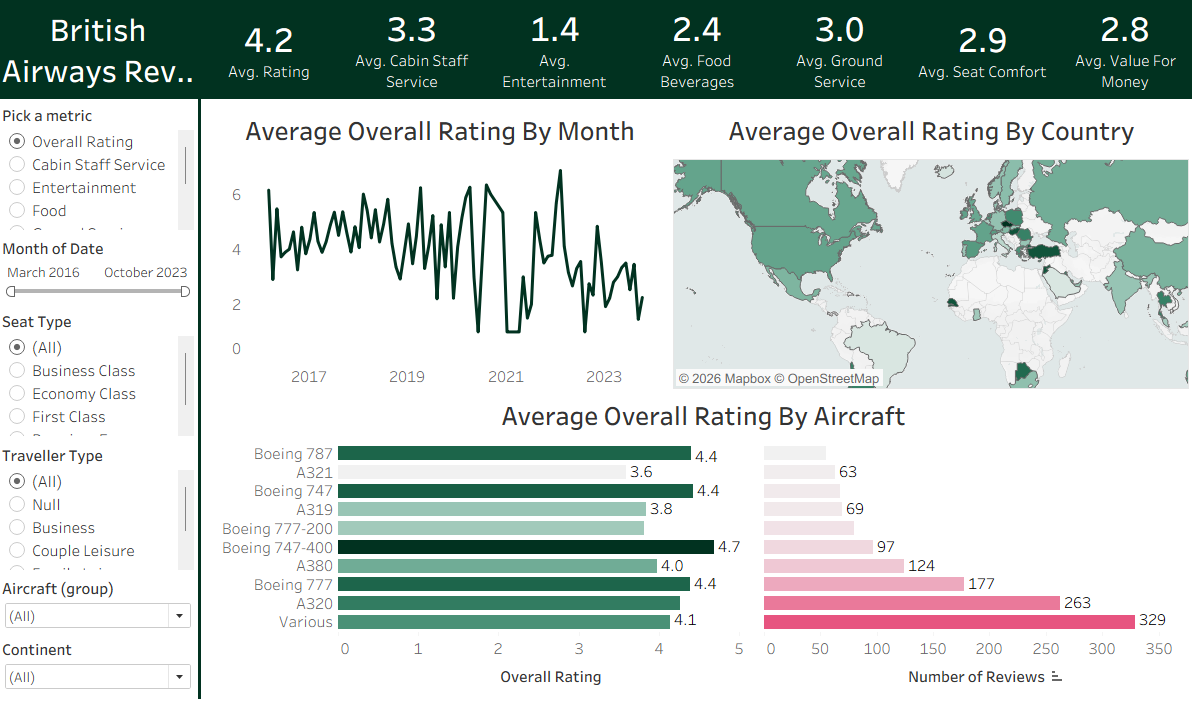

What the dashboard file says about the page in this screenshot:
{"tool":"tableau","page":{"name":"Dashboard 1","canvas":[1200,700],"ordinal":0},"visuals":[{"type":"text","box":[0,0,200,100]},{"type":"worksheet","title":"summary","mark":"Automatic","box":[200,0,999,100]},{"type":"blank","box":[200,100,3,600]},{"type":"parameter","param":"[Parameters].[Parameter 1]","box":[0,102,200,133.3]},{"type":"worksheet","title":"Month","mark":"Automatic","rows":["Calculation_467529988195790848"],"cols":["date"],"box":[220,110,444,280]},{"type":"worksheet","title":"Map","mark":"Automatic","box":[675,110,517,280]},{"type":"filter","title":"Map","param":"[federated.1pcnwoo1g4pvph10ksfk00hadk1e].[tmn:date:qk]","box":[0,235.3,200,73]},{"type":"filter","title":"Map","param":"[federated.1pcnwoo1g4pvph10ksfk00hadk1e].[none:seat_type:nk]","box":[0,308.3,200,133.3]},{"type":"worksheet","title":"Aircraft","mark":"Automatic","cols":["Calculation_467529988195790848","ba_reviews.csv_693B5AD7C0CC43C9AB5E245D8FB67E5F"],"box":[220,395,971,300]},{"type":"filter","title":"Map","param":"[federated.1pcnwoo1g4pvph10ksfk00hadk1e].[none:traveller_type:nk]","box":[0,441.7,200,133.3]},{"type":"filter","title":"Map","param":"[federated.1pcnwoo1g4pvph10ksfk00hadk1e].[Aircraft (group)]","box":[0,575,200,61]},{"type":"filter","title":"Map","param":"[federated.1pcnwoo1g4pvph10ksfk00hadk1e].[none:Continent:nk]","box":[0,636,200,61]}]}

Visuals, with their boxes in screenshot pixels (x1, y1, x2, y2), scaled from the page's 1200x700 canvas onto the 1192x701 screenshot:
text: detection(0, 0, 199, 100)
"summary" worksheet: detection(199, 0, 1191, 100)
blank: detection(199, 100, 202, 700)
parameter: detection(0, 102, 199, 236)
"Month" worksheet: detection(219, 110, 660, 391)
"Map" worksheet: detection(670, 110, 1184, 391)
"Map" filter: detection(0, 236, 199, 309)
"Map" filter: detection(0, 309, 199, 442)
"Aircraft" worksheet: detection(219, 396, 1183, 696)
"Map" filter: detection(0, 442, 199, 576)
"Map" filter: detection(0, 576, 199, 637)
"Map" filter: detection(0, 637, 199, 698)
